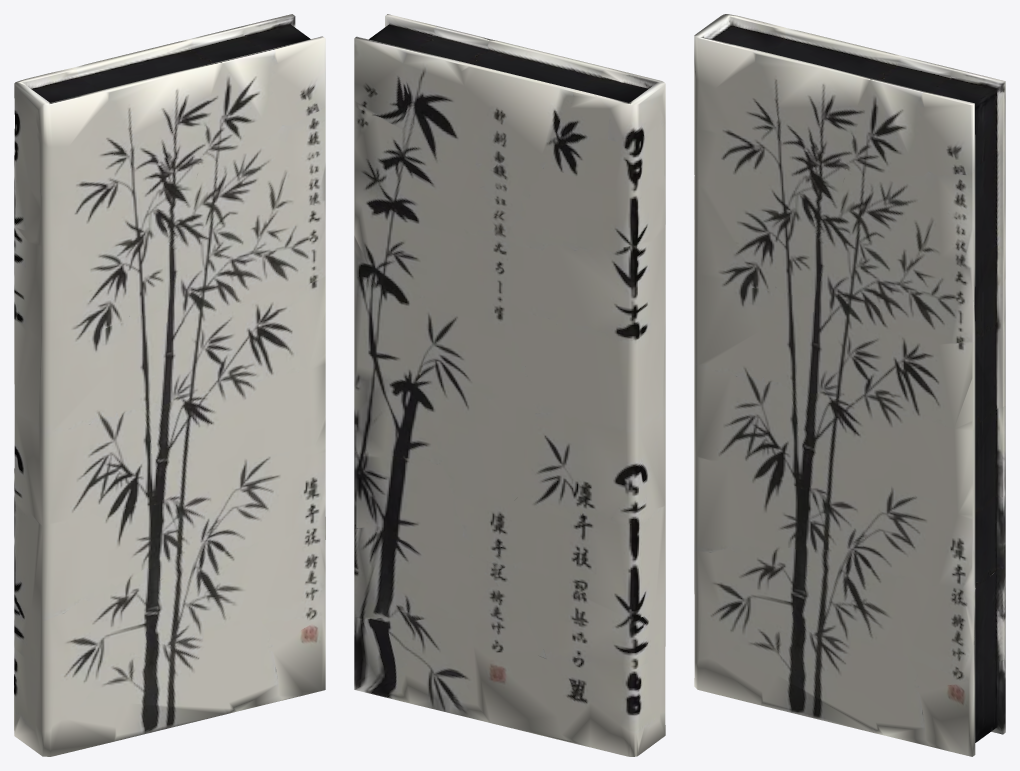
The model's file is bamboo.glb.
3 renders of one model, left to right at view 1: azimuth 30°, elevation 25°; view 2: azimuth 150°, elevation 25°; view 3: azimuth 330°, elevation 25°, orthographic.
Bounding box in the file's own units: 0.8585 × 1.9 × 0.1769.
1 material, 1 textured.
